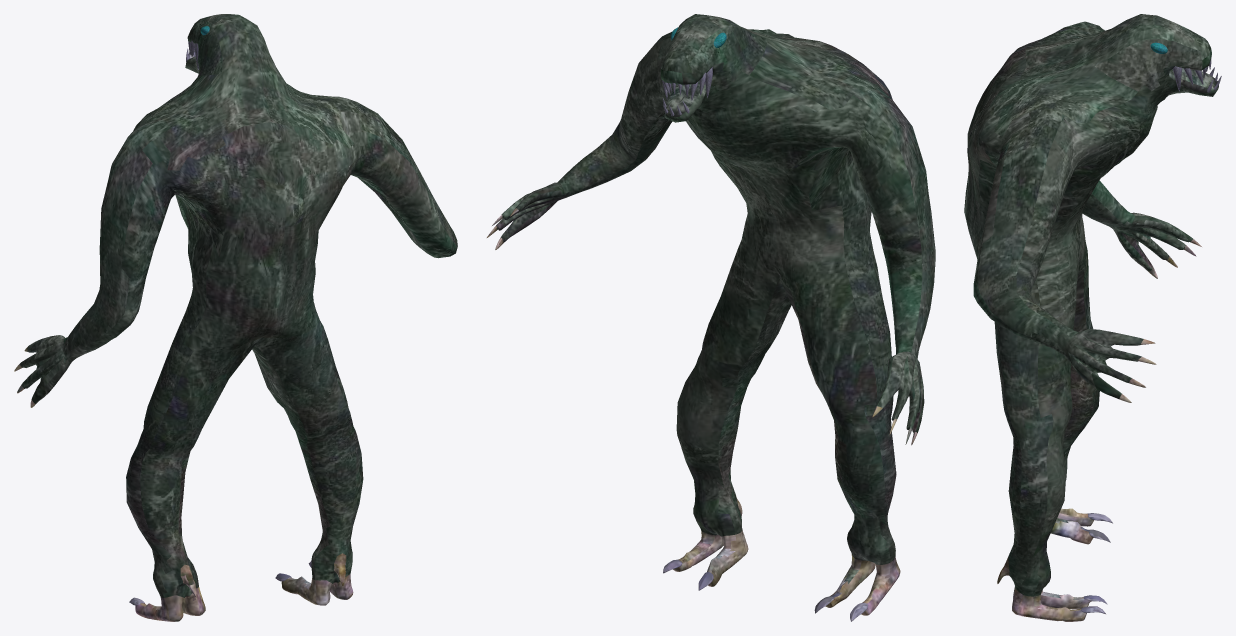
Rendered from Aranar.0004.obj.
The picture shows the model from 3 angles, left to right: view 1: azimuth 30°, elevation 25°; view 2: azimuth 150°, elevation 25°; view 3: azimuth 270°, elevation 25°; orthographic projection. The views are drawn at different scales.
Parts seen in each view (by area): view 1: polySurface28; view 2: polySurface28; view 3: polySurface28.
Boxes of the visible parts, x1,y1,x2,y2 form: polySurface28: (14,14,457,621); polySurface28: (487,14,935,621); polySurface28: (964,14,1221,621).
Bounding box in the file's own units: 1.74 × 2.29 × 0.9277.
Materials: 4 (4 with a texture image).
